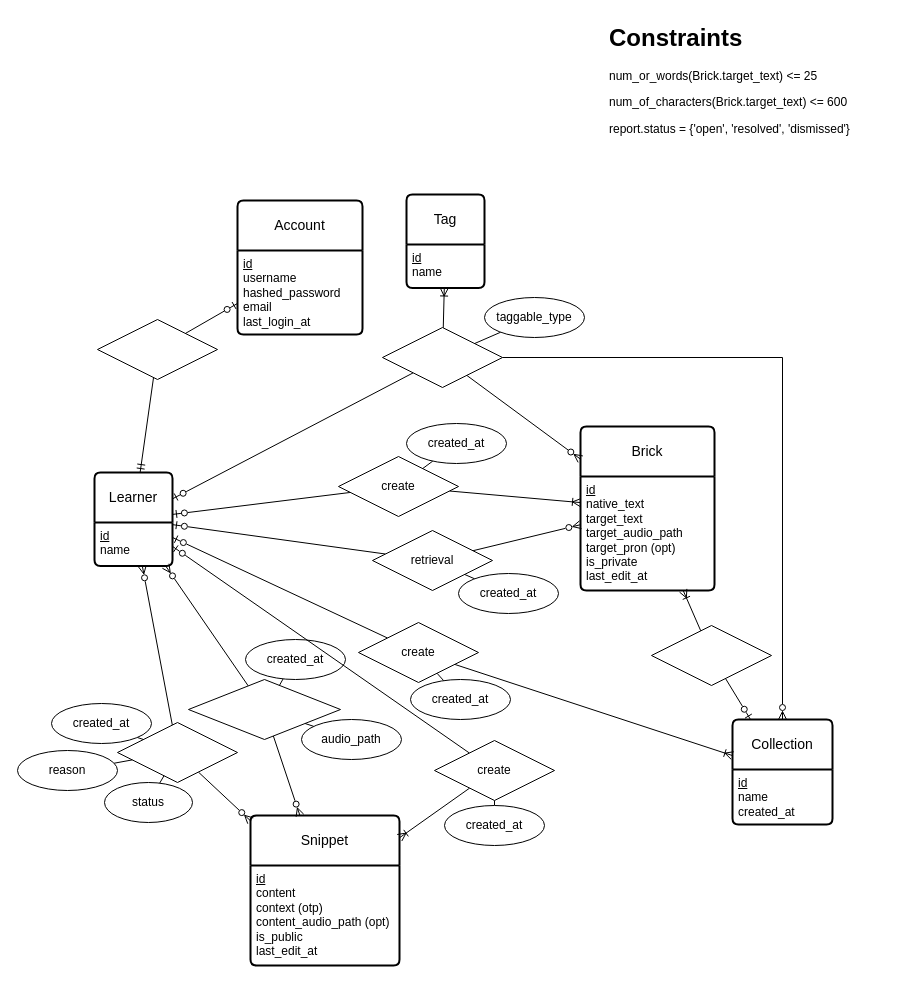
This 902x983 diagram has some shape labels left out. The shapes that lost their labels are listed below. From the top down, each one's centre as x and y in pixels, then its label:
the point at 157,349: has
the point at 442,357: categorize
the point at 711,655: belongs_to
the point at 264,709: contributes_audio_to
the point at 177,752: reports
